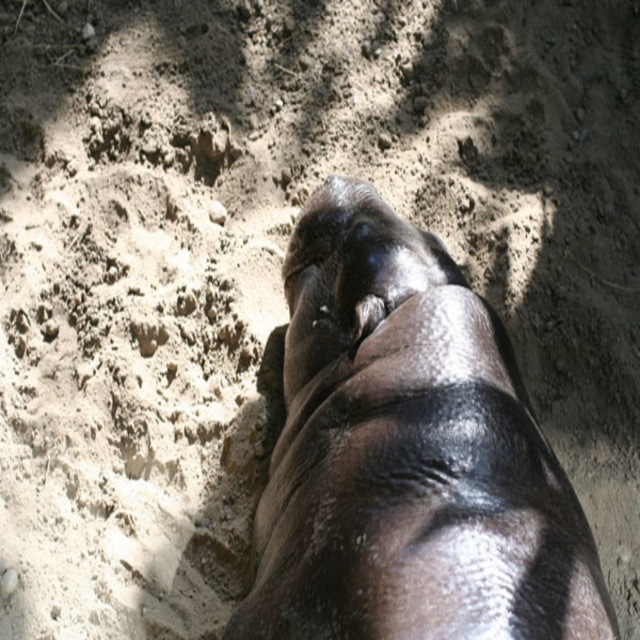Hippopotamus: (222, 176, 623, 638)
